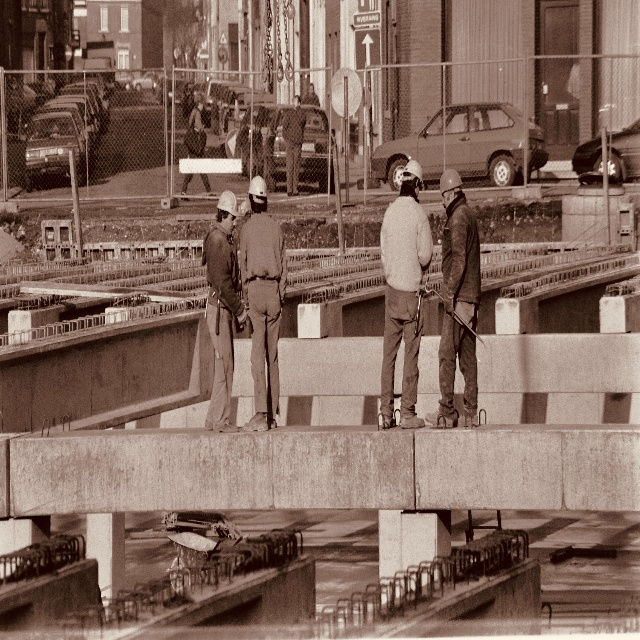Guantes: (443, 290, 454, 317), (237, 303, 248, 327)
Mascara: (197, 102, 204, 111)
